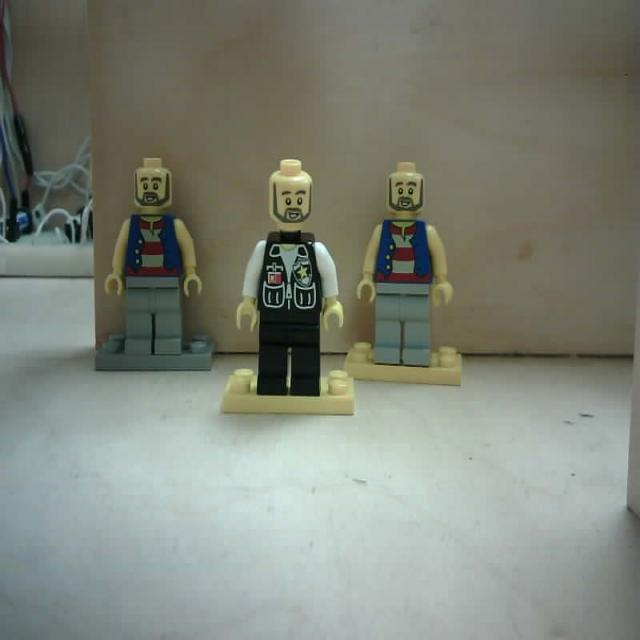Lego-People: (221, 161, 356, 419), (91, 154, 221, 373), (347, 162, 462, 386)
